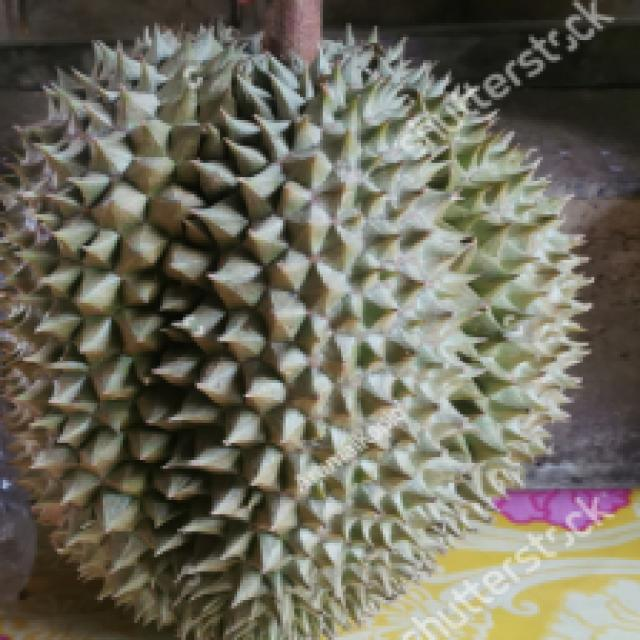d24: (52, 12, 544, 616)
